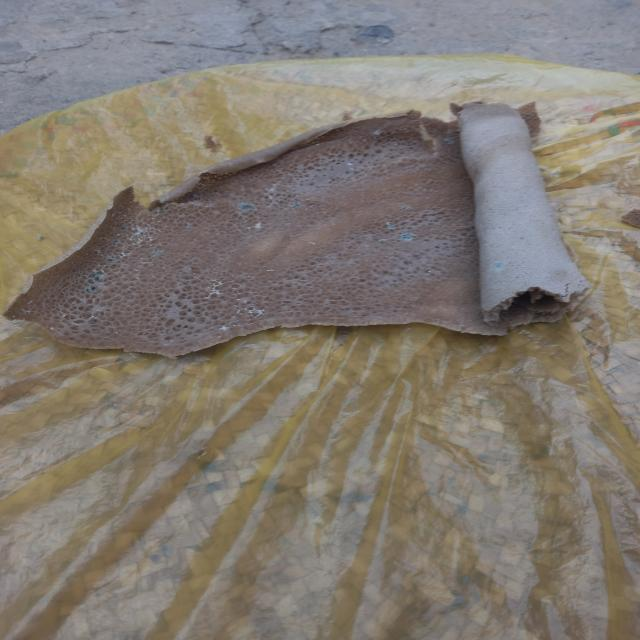injera_mold: (131, 224, 156, 247), (204, 278, 227, 299), (262, 183, 280, 200), (236, 307, 265, 317), (155, 206, 171, 215), (237, 202, 255, 210), (84, 285, 98, 293), (400, 233, 416, 240), (492, 261, 504, 270), (107, 254, 118, 263), (90, 271, 102, 279), (218, 324, 230, 332), (385, 221, 396, 229), (372, 129, 384, 136), (109, 238, 119, 246), (444, 138, 454, 144), (255, 222, 262, 229), (119, 225, 127, 231), (185, 222, 193, 228), (93, 248, 102, 253), (22, 308, 31, 313), (120, 252, 130, 256), (402, 206, 411, 210), (266, 268, 274, 272), (293, 202, 301, 206), (27, 299, 33, 304), (50, 326, 55, 331), (378, 239, 386, 242), (308, 242, 316, 245), (160, 199, 166, 203), (347, 162, 354, 165), (285, 223, 290, 226), (247, 227, 251, 230), (362, 139, 367, 141), (350, 168, 354, 170), (316, 143, 320, 145)
